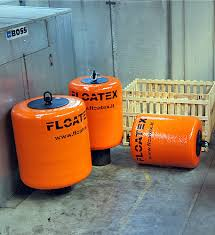buoy: (11, 98, 92, 188), (67, 76, 124, 147), (130, 113, 200, 167)
